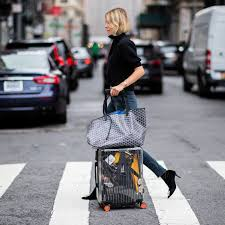suitcase: (91, 89, 150, 213)
